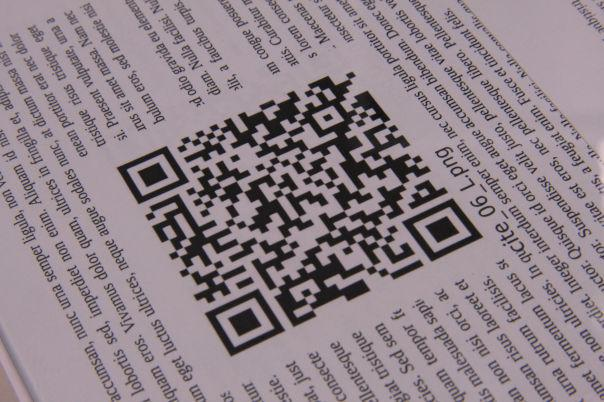Finder pattern: (203, 287, 282, 355), (401, 198, 482, 264), (116, 148, 190, 207)
